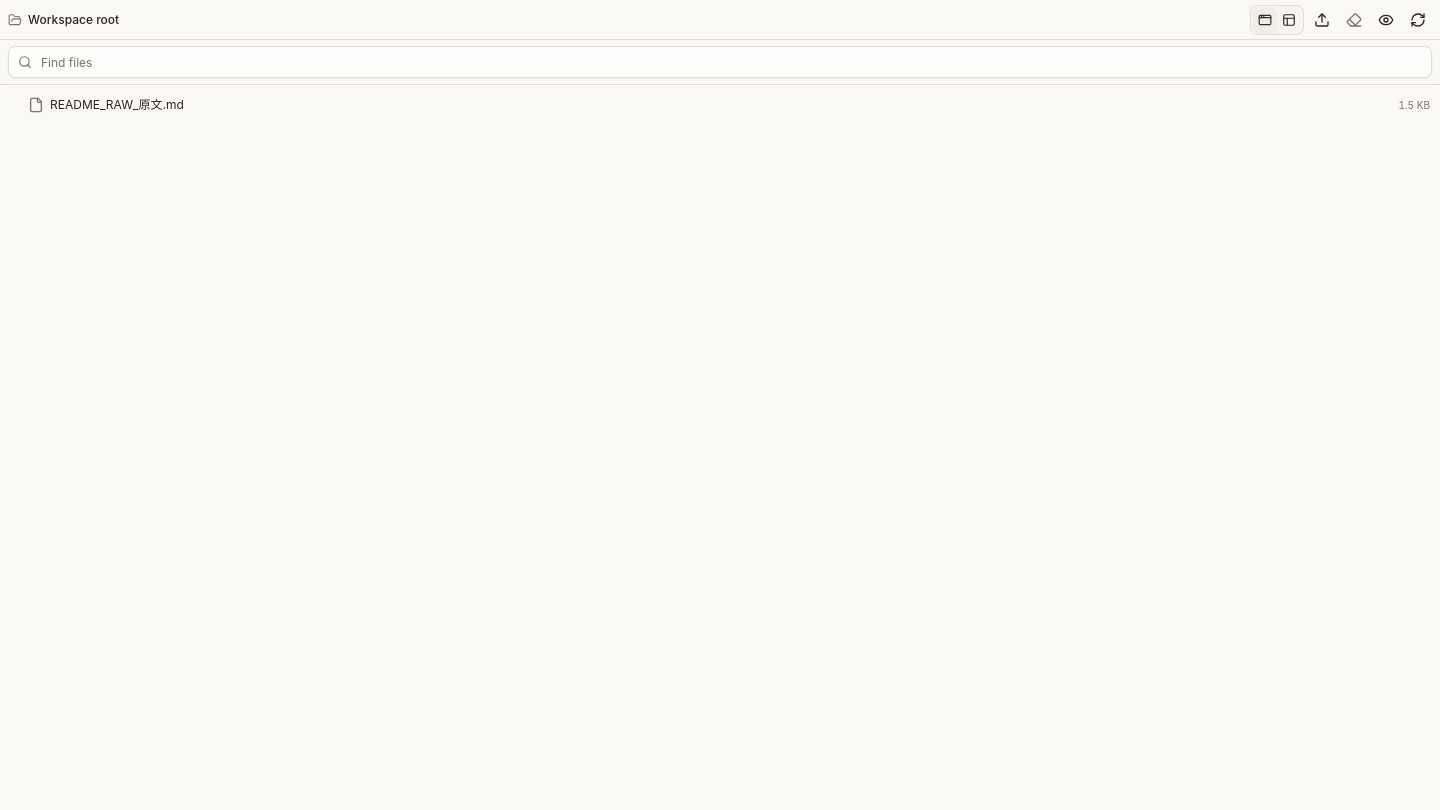
Test: WorkspaceFilesTab › shows localized English delete failure framing without raw diagnostics
Right-click the list item "README_RAW_原文.md" at (720, 105), box [4,89,1436,121]
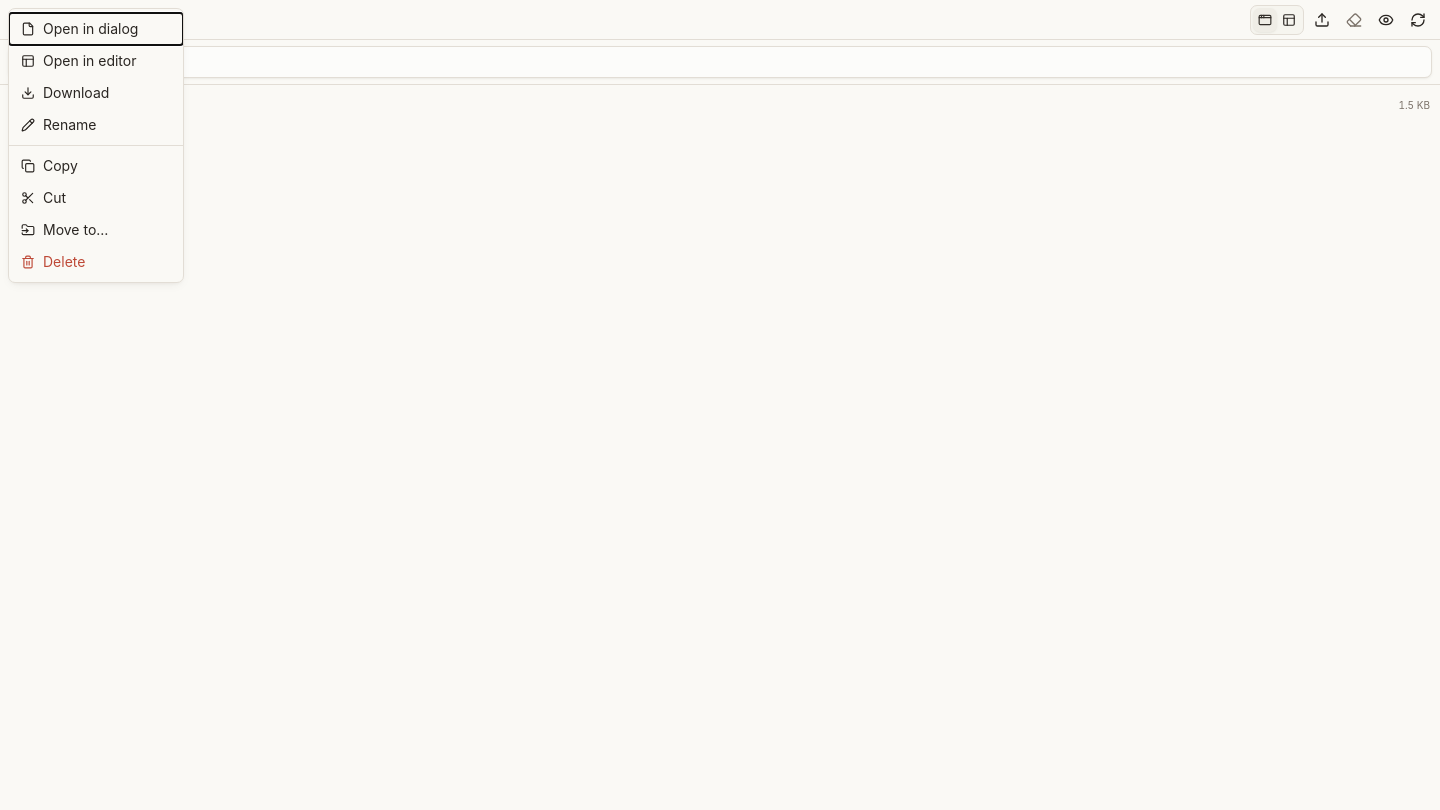
Click the menu item "Delete". click: (96, 262)
box: [9,246,183,278]
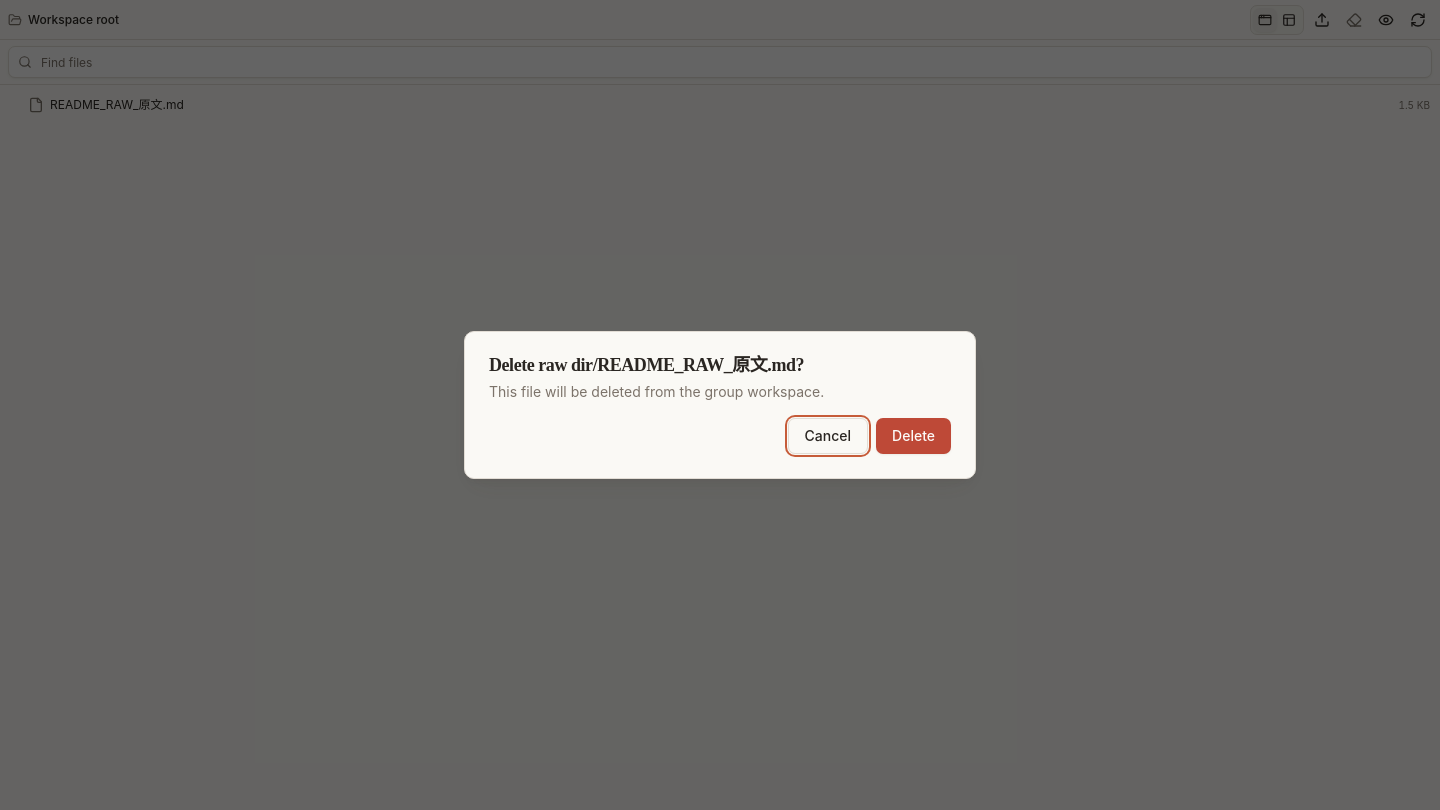
Click the button "Delete". click: (914, 436)
box: [876,418,951,454]
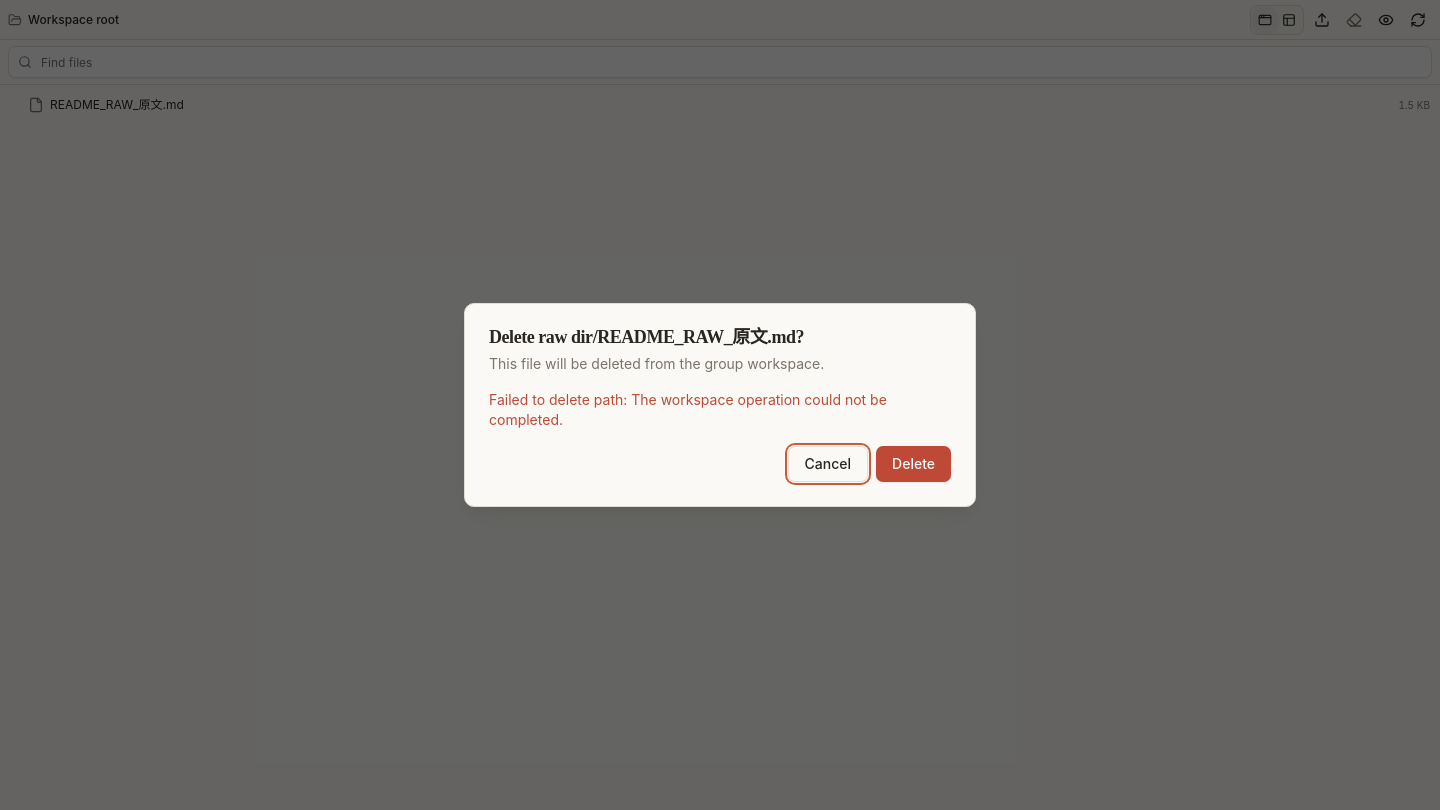
Expected: the message reads "Failed to delete path: The workspace operation could not be completed.", [489,391,887,428]
